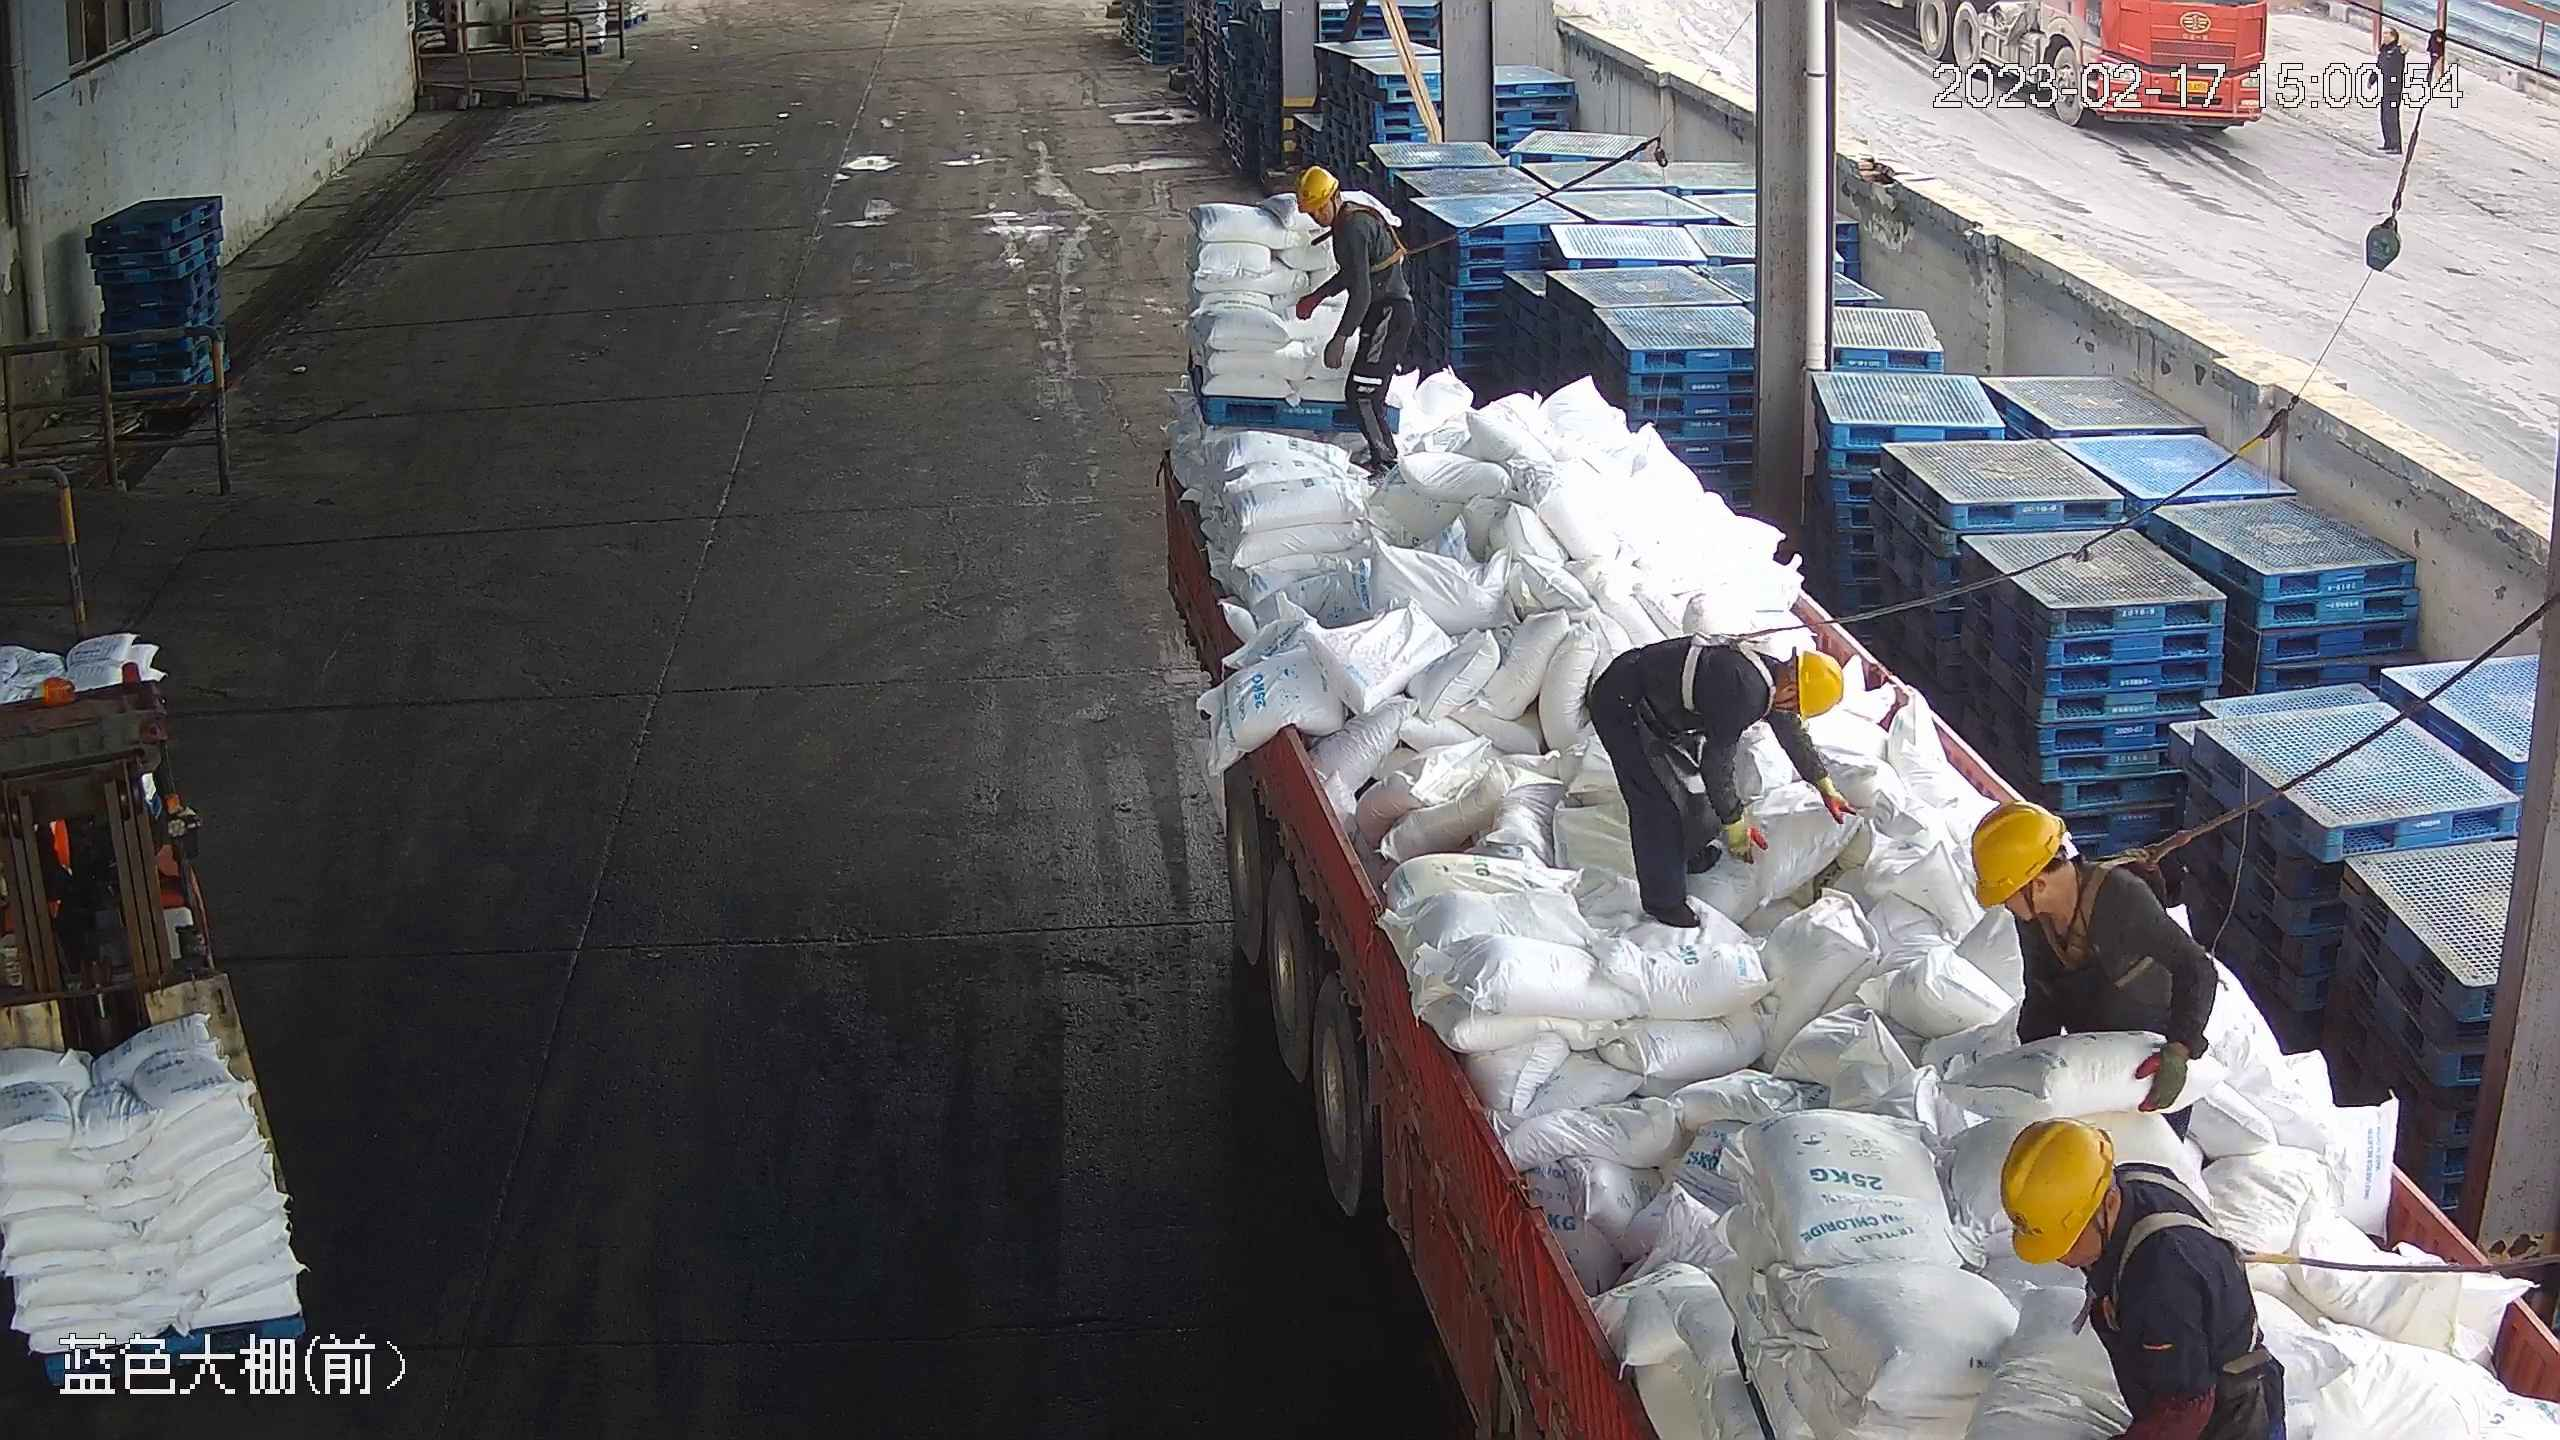belt: (2102, 1154, 2313, 1344), (2037, 838, 2178, 974), (1676, 603, 1798, 727), (1343, 178, 1453, 291)
head: (2003, 1120, 2261, 1389), (1967, 806, 2166, 988), (1703, 628, 1847, 778), (1295, 167, 1406, 284)
helmet: (2004, 1119, 2113, 1264), (1967, 805, 2066, 909), (1794, 648, 1847, 722), (1295, 165, 1338, 216)
people: (1591, 630, 1857, 930), (1294, 163, 1420, 484)
truck: (1152, 394, 2560, 1440)
